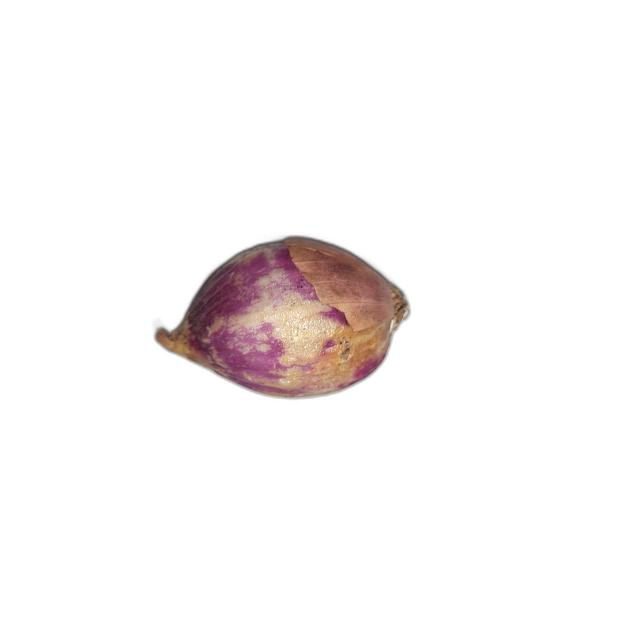onion: (154, 236, 412, 400)
